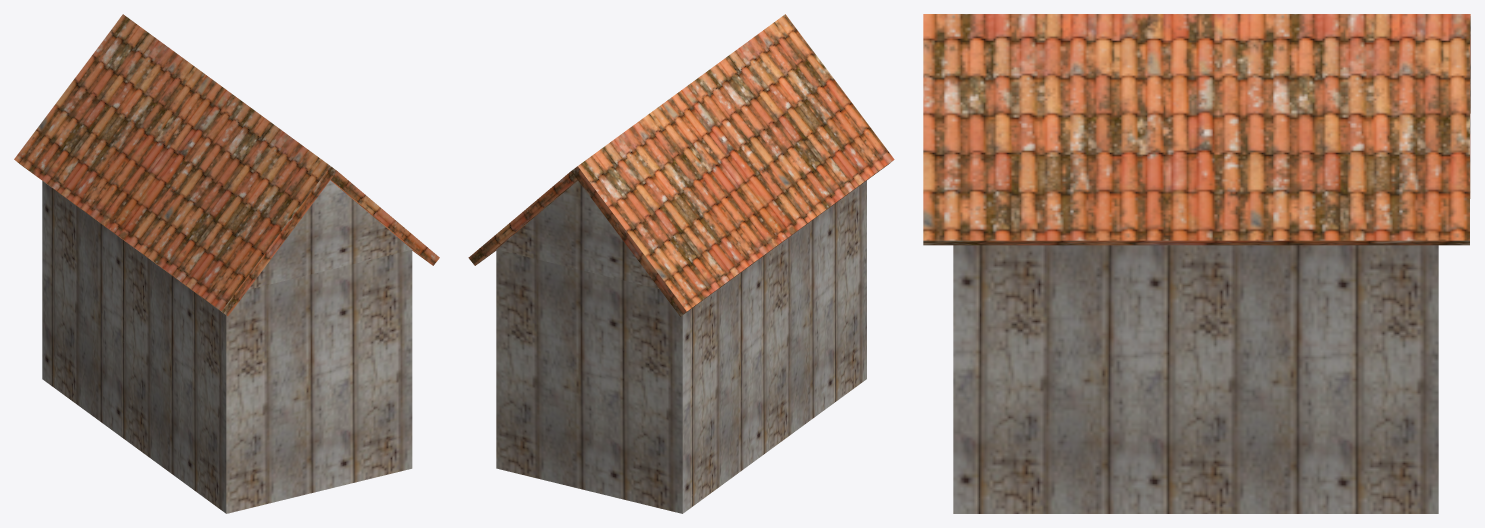
The model's file is House.dae.
3 views of the same model, side by side, from view 1: azimuth 30°, elevation 25°; view 2: azimuth 150°, elevation 25°; view 3: azimuth 270°, elevation 25° (orthographic). The views are drawn at different scales.
Visible parts, largest first — view 1: Cube; view 2: Cube; view 3: Cube.
Part boxes in pixels (x1=…): Cube: x1=14, y1=14, x2=439, y2=513; Cube: x1=468, y1=14, x2=894, y2=513; Cube: x1=923, y1=14, x2=1470, y2=513.
Bounding box in the file's own units: 9.57 × 15.75 × 13.98.
